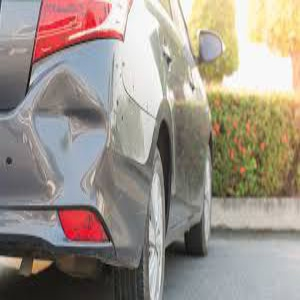bumper: (16, 62, 118, 204)
